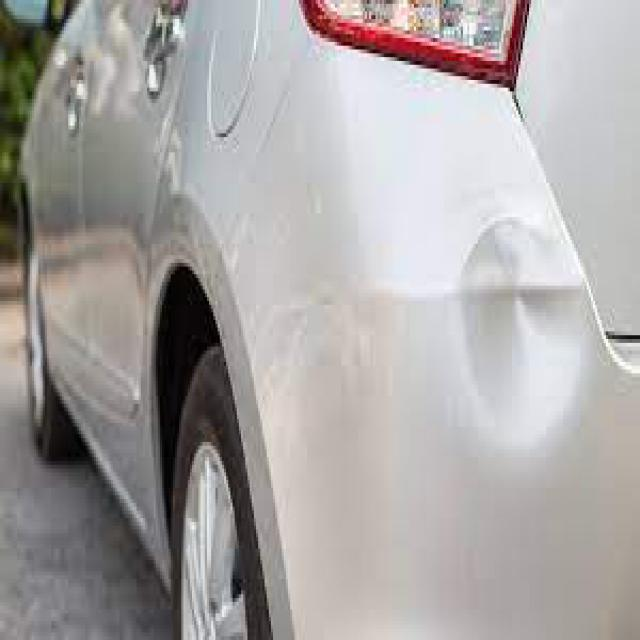rear-bumper-dent: (243, 31, 602, 636)
